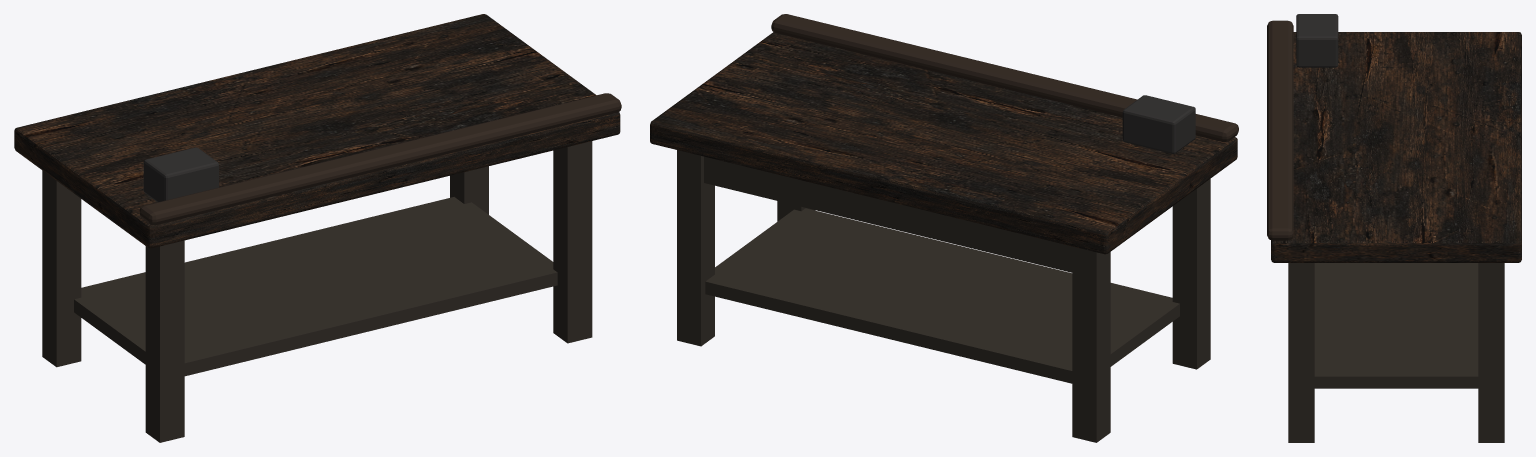
Rendered from bench.glb.
The picture shows the model from 3 angles, left to right: view 1: azimuth 30°, elevation 25°; view 2: azimuth 150°, elevation 25°; view 3: azimuth 270°, elevation 25°; orthographic projection. The views are drawn at different scales.
Parts seen in each view (by area): view 1: bench; view 2: bench; view 3: bench.
Boxes of the visible parts, <box> form: bench: <box>14,14,621,442</box>; bench: <box>650,14,1238,442</box>; bench: <box>1267,14,1521,442</box>.
Bounding box in the file's own units: 1.9 × 1 × 0.965.
4 materials, 1 textured.
